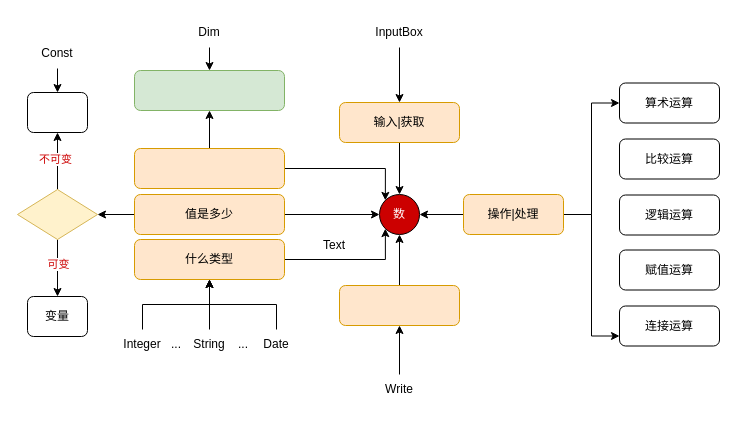
The diagram is 737 pixels wide and 421 high, and some of its shapes have lost their labels. The shapes that lost their labels are listed below. From the top down, each one's centre as x and y in pixels, then its label:
the point at 209,90: 如何要内存|变量声明
the point at 57,112: 常量
the point at 209,168: 放在哪里|内存|变量名
the point at 57,214: 可变吗
the point at 399,305: 输出|显示
